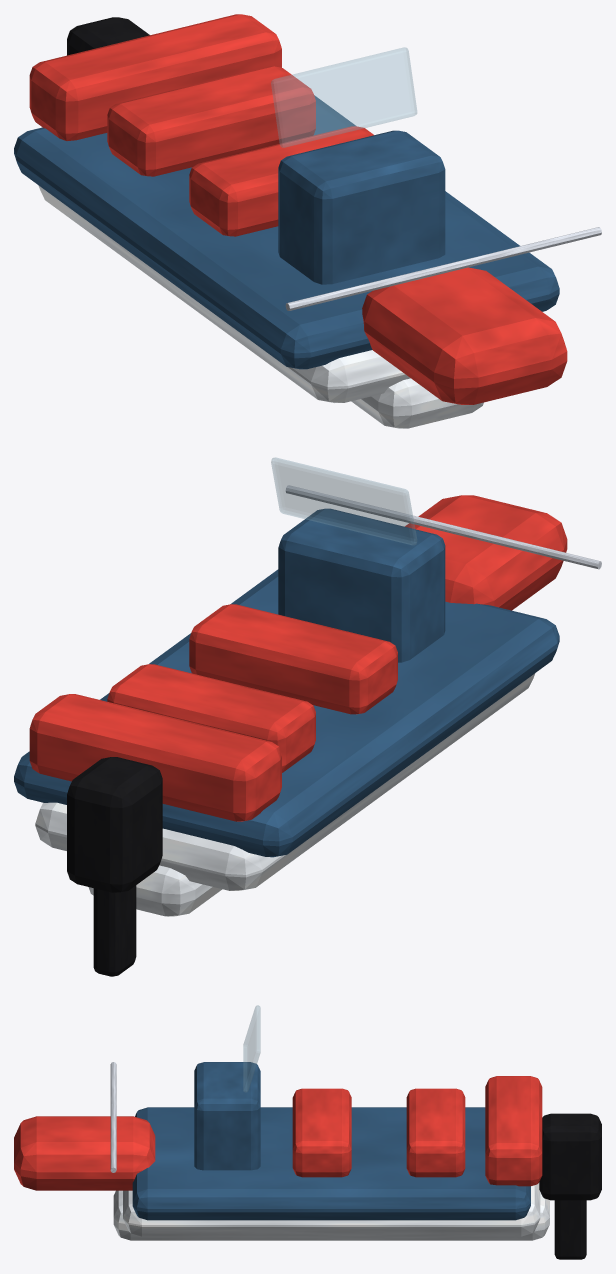
Rendered from veh_boat.glb.
The picture shows the model from 3 angles, top to bottom: view 1: azimuth 30°, elevation 25°; view 2: azimuth 150°, elevation 25°; view 3: azimuth 270°, elevation 25°; orthographic projection. The views are drawn at different scales.
Parts seen in each view (by area): view 1: veh_boat_gunwale, veh_boat_console, veh_boat_bow, veh_boat_bench, veh_boat_seat1, veh_boat_windscreen, veh_boat_seat0, veh_boat_chine, veh_boat_keel, veh_boat_outboard, veh_boat_rail_l, veh_boat_rail_r; view 2: veh_boat_gunwale, veh_boat_console, veh_boat_bench, veh_boat_seat0, veh_boat_outboard, veh_boat_bow, veh_boat_seat1, veh_boat_chine, veh_boat_windscreen, veh_boat_outboard_leg, veh_boat_keel, veh_boat_rail_l (+1 smaller); view 3: veh_boat_gunwale, veh_boat_bow, veh_boat_chine, veh_boat_console, veh_boat_bench, veh_boat_seat0, veh_boat_seat1, veh_boat_outboard, veh_boat_keel, veh_boat_outboard_leg, veh_boat_windscreen, veh_boat_rail_r.
Boxes of the visible parts, x1,y1,x2,y2 form: veh_boat_gunwale: (14,95,559,369); veh_boat_console: (278,130,445,284); veh_boat_bow: (362,267,567,404); veh_boat_bench: (29,14,281,140); veh_boat_seat1: (107,66,315,176); veh_boat_windscreen: (271,47,416,147); veh_boat_seat0: (189,126,373,236); veh_boat_chine: (38,185,410,402); veh_boat_keel: (351,378,483,428); veh_boat_outboard: (67,17,149,55); veh_boat_rail_l: (285,258,478,310); veh_boat_rail_r: (410,227,601,278); veh_boat_gunwale: (14,569,559,857); veh_boat_console: (278,508,445,662); veh_boat_bench: (29,694,281,821); veh_boat_seat0: (189,604,397,714); veh_boat_outboard: (67,757,162,892); veh_boat_bow: (405,495,567,610); veh_boat_seat1: (107,664,315,772); veh_boat_chine: (35,673,534,890); veh_boat_windscreen: (271,457,416,544); veh_boat_outboard_leg: (93,885,136,976); veh_boat_keel: (88,865,222,916); veh_boat_rail_l: (408,515,601,569); veh_boat_gunwale: (132,1107,530,1220); veh_boat_bow: (14,1116,155,1190); veh_boat_chine: (123,1182,540,1236); veh_boat_console: (194,1062,260,1170); veh_boat_bench: (485,1076,542,1186); veh_boat_seat0: (292,1088,351,1177); veh_boat_seat1: (406,1088,465,1177); veh_boat_outboard: (539,1113,601,1200); veh_boat_keel: (113,1190,549,1240); veh_boat_outboard_leg: (554,1200,586,1259); veh_boat_windscreen: (243,1005,260,1092); veh_boat_rail_r: (110,1103,116,1172).
Size of the model in its own units: 2.64 by 2.68 by 6.2.
7 materials, 7 textured.
